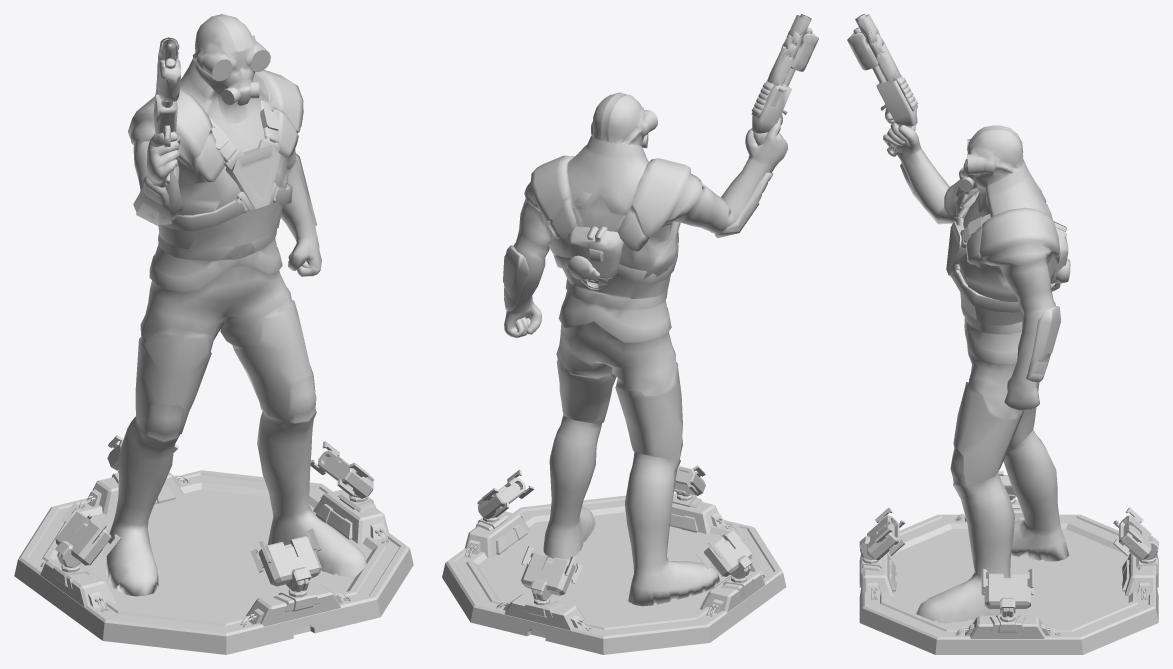
The model's file is ShotgunBotSpawner.glb.
3 renders of one model, left to right at view 1: azimuth 30°, elevation 25°; view 2: azimuth 150°, elevation 25°; view 3: azimuth 270°, elevation 25°, orthographic. The views are drawn at different scales.
Parts seen in each view (by area): view 1: ShotgunBotSpawnerHologram; view 2: ShotgunBotSpawnerHologram; view 3: ShotgunBotSpawnerHologram.
Part boxes in pixels (box(x1,y1,x2,y2)): ShotgunBotSpawnerHologram: box(14, 14, 413, 654); ShotgunBotSpawnerHologram: box(442, 14, 818, 654); ShotgunBotSpawnerHologram: box(847, 14, 1158, 654).
Bounding box in the file's own units: 1.06 × 2.04 × 1.1.
3 materials, 2 textured.
